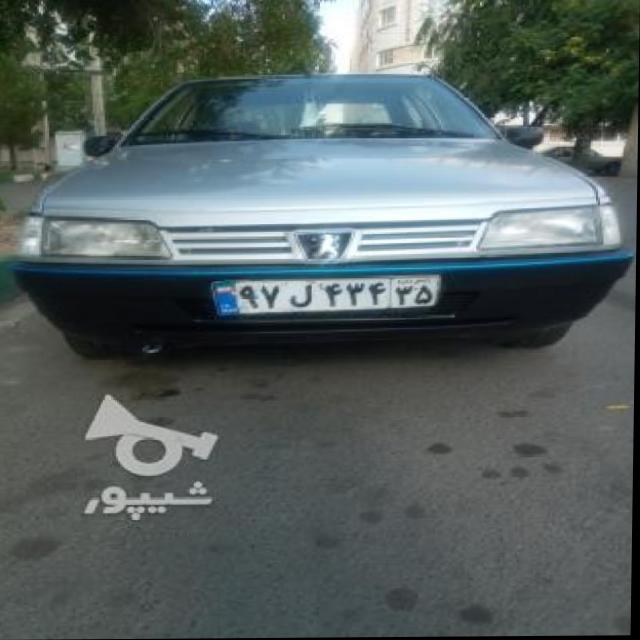licence: (205, 274, 438, 317)
